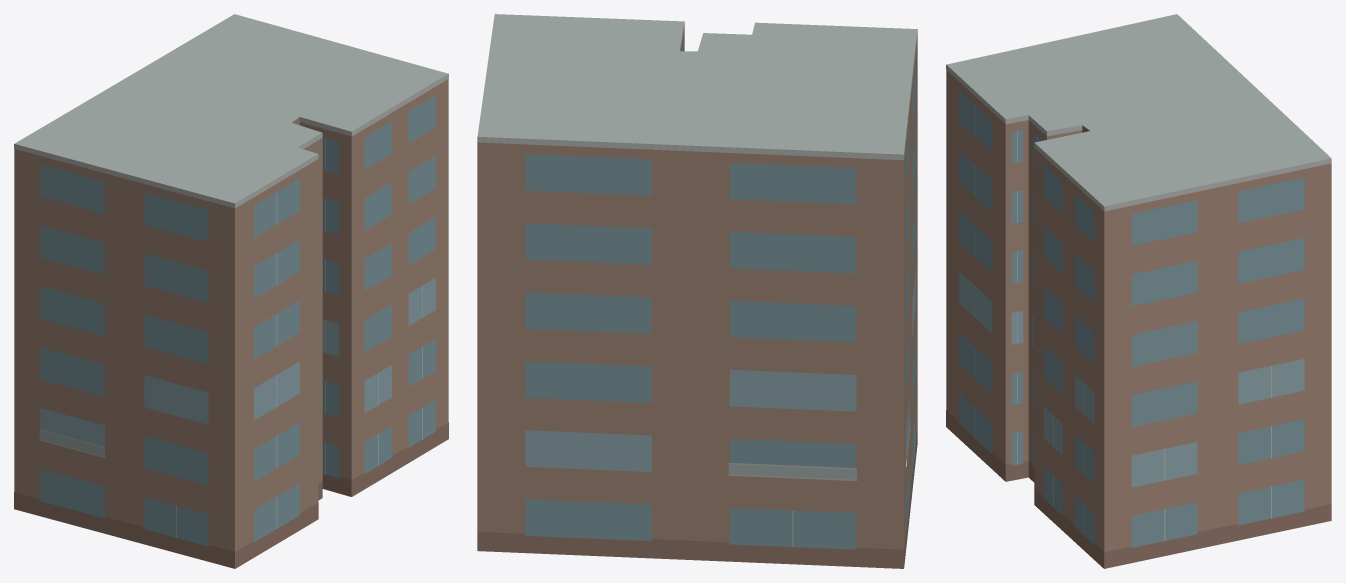
File: survey-upis-32994183.glb
3 renders of one model, left to right at view 1: azimuth 30°, elevation 25°; view 2: azimuth 150°, elevation 25°; view 3: azimuth 270°, elevation 25°, orthographic. The views are drawn at different scales.
Visible parts, largest first — view 1: survey-upis-32994183.tmp; view 2: survey-upis-32994183.tmp; view 3: survey-upis-32994183.tmp.
Part boxes in pixels (x1,y1,x2,y2): survey-upis-32994183.tmp: [14, 14, 448, 568]; survey-upis-32994183.tmp: [477, 14, 917, 568]; survey-upis-32994183.tmp: [946, 14, 1331, 568].
Bounding box in the file's own units: 20.35 × 17.85 × 17.22.
